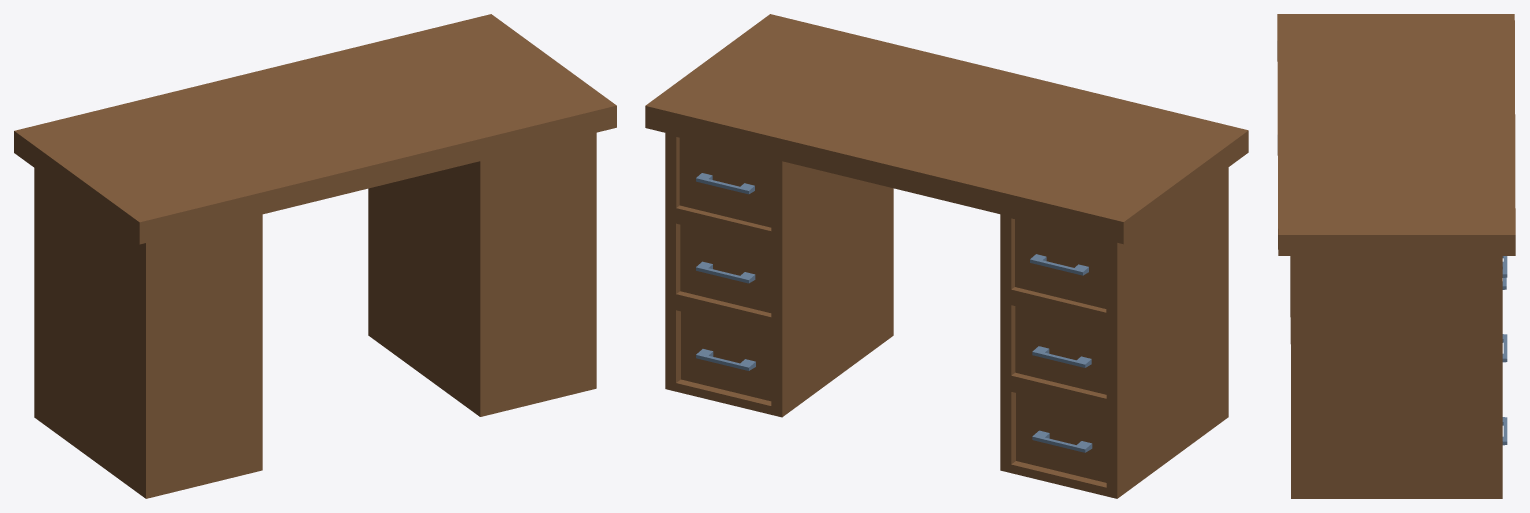
File: Escritorio_low.fbx
3 renders of one model, left to right at view 1: azimuth 30°, elevation 25°; view 2: azimuth 150°, elevation 25°; view 3: azimuth 270°, elevation 25°, orthographic. The views are drawn at different scales.
Visible parts, largest first — view 1: Escritorio_low; view 2: Escritorio_low; view 3: Escritorio_low.
Part boxes in pixels (x1,y1,x2,y2): Escritorio_low: (14, 14, 616, 498); Escritorio_low: (645, 14, 1248, 498); Escritorio_low: (1277, 14, 1515, 498).
Size of the model in its own units: 12.21 by 6.95 by 5.56.
